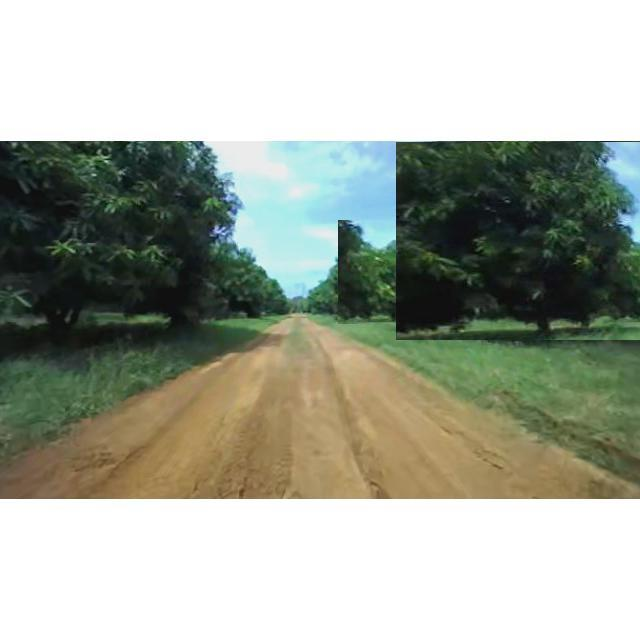direk: (0, 142, 250, 342), (396, 142, 640, 340), (178, 235, 280, 327), (338, 220, 428, 324)
